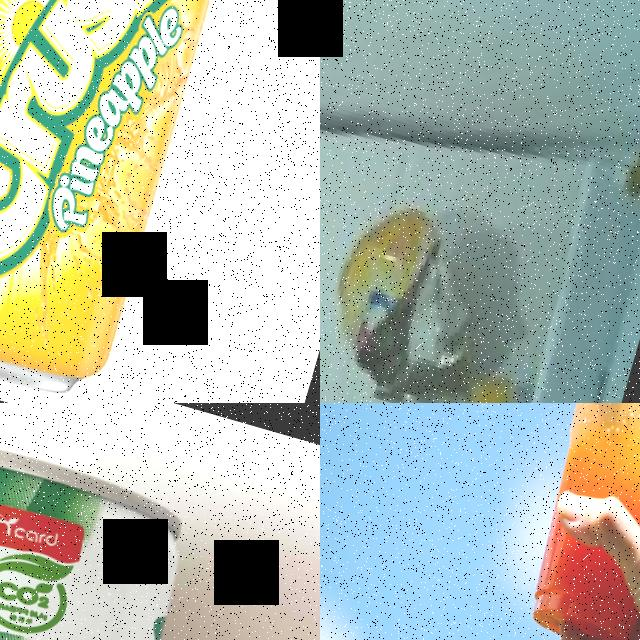can: (0, 0, 261, 403), (0, 403, 212, 640)
cup: (501, 403, 640, 640)
